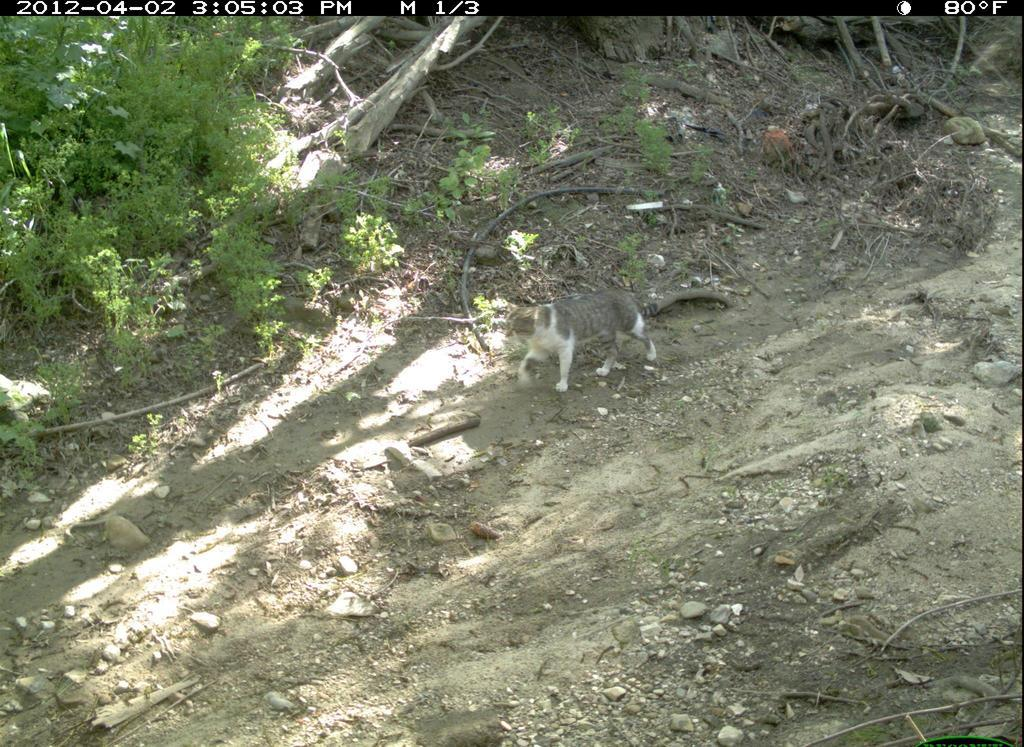cat: (493, 286, 684, 402)
